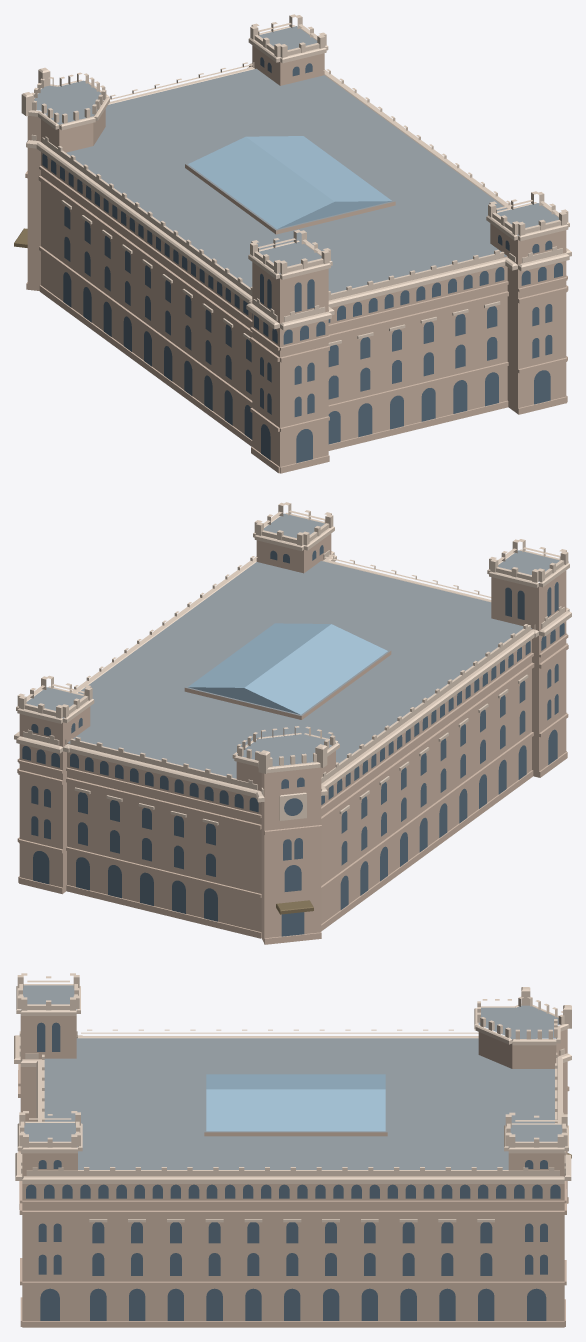
File: mexico-city-palacio-postal.glb
3 renders of one model, top to bottom at view 1: azimuth 30°, elevation 25°; view 2: azimuth 150°, elevation 25°; view 3: azimuth 270°, elevation 25°, orthographic. The views are drawn at different scales.
Visible parts, largest first — view 1: Palacio Postal; view 2: Palacio Postal; view 3: Palacio Postal.
Part boxes in pixels (x1,y1,x2,y2): Palacio Postal: (14, 14, 571, 473); Palacio Postal: (14, 502, 571, 944); Palacio Postal: (14, 973, 571, 1327).
Bounding box in the file's own units: 46.5 × 31.3 × 74.8.
